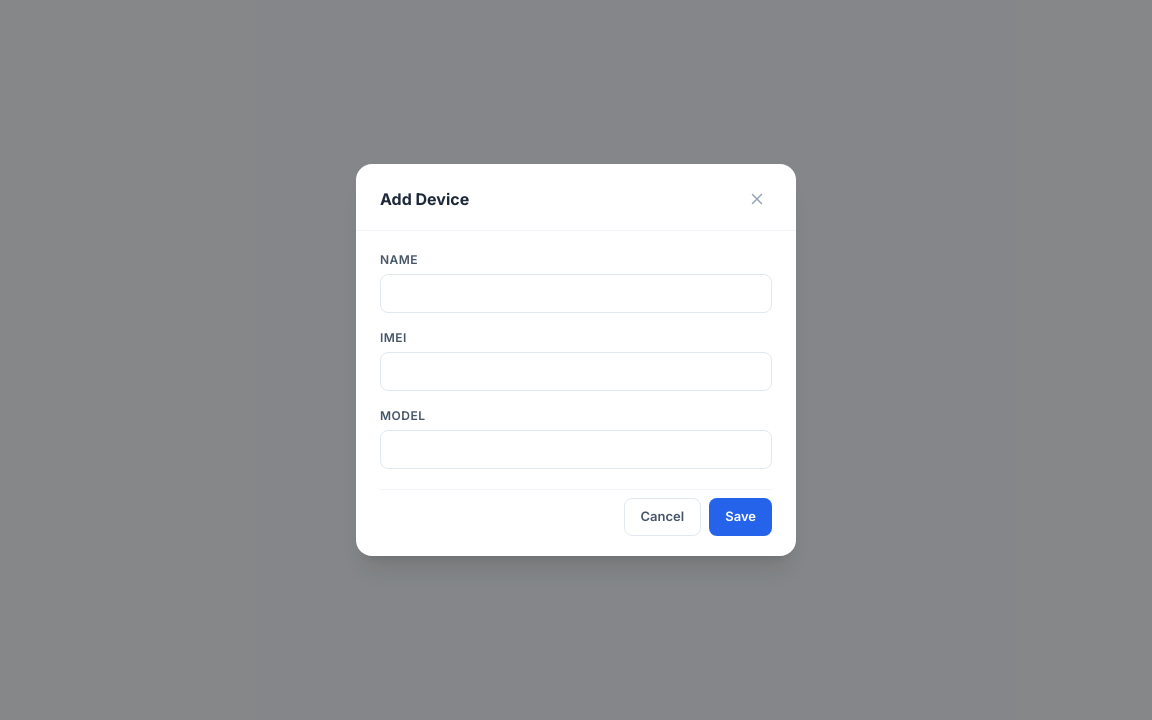
Test: DeviceFormModal — create mode › shows validation error when IMEI is too short
Type "Test" into the field labelled "Name" at (576, 294), box [380, 274, 772, 313]
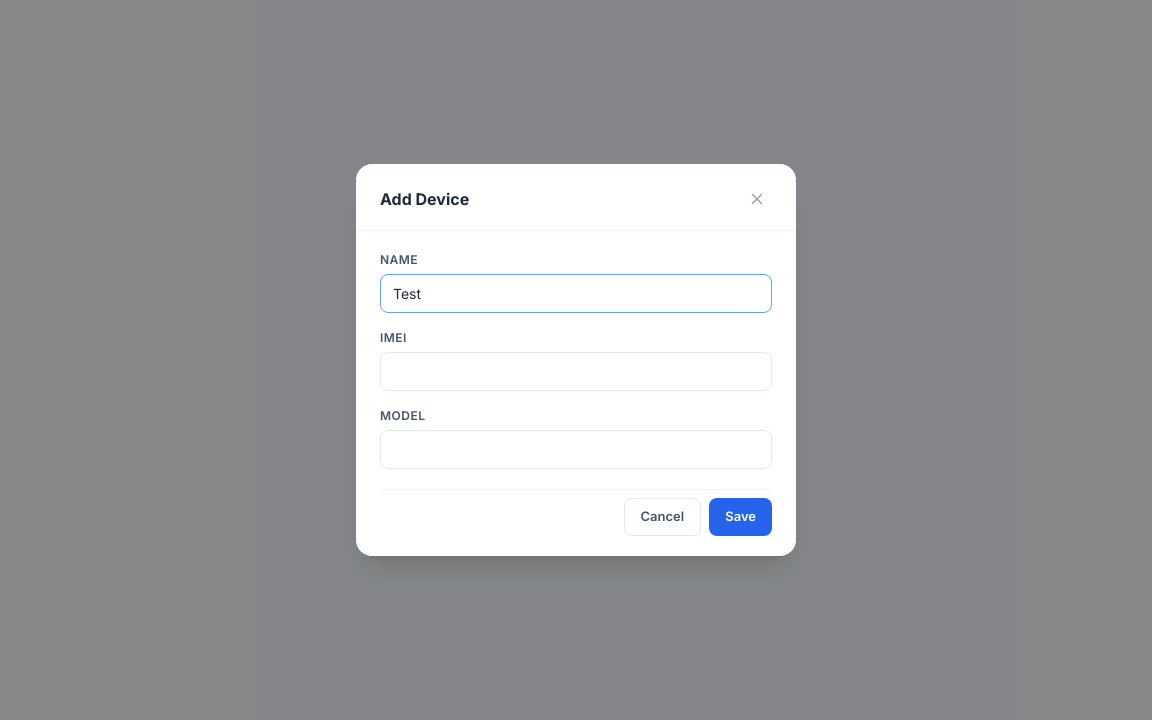
Type "1234" into the field labelled "IMEI" at (576, 372), box [380, 352, 772, 391]
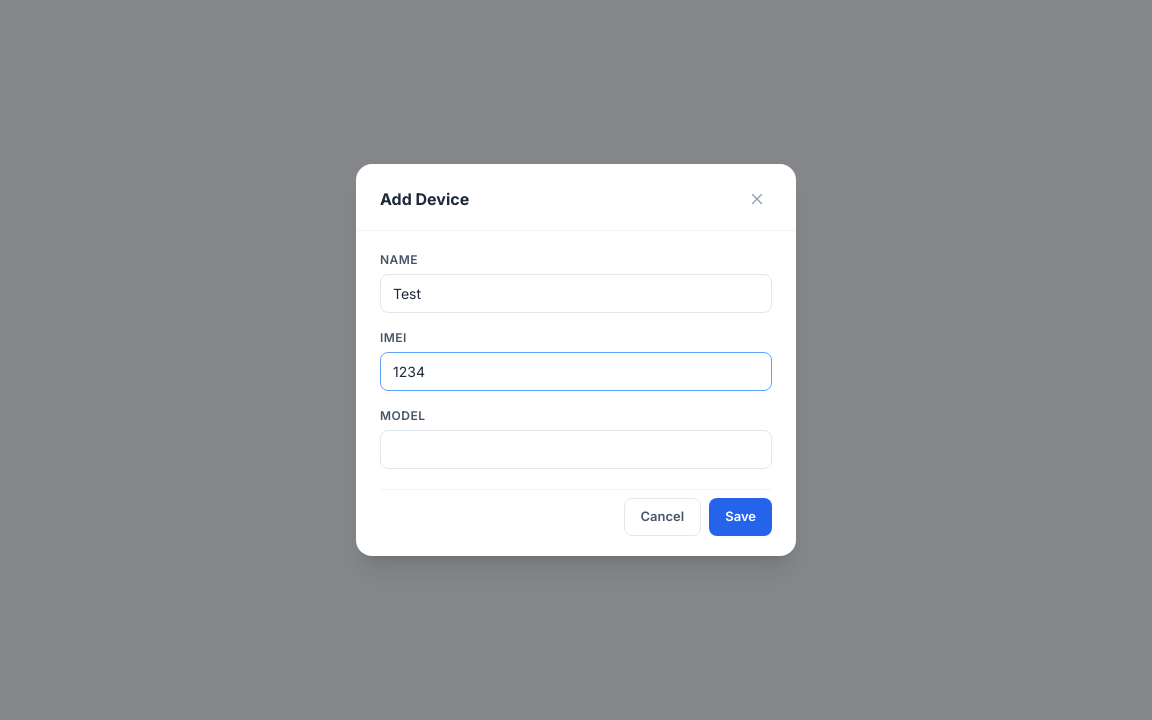
Click the button "Save" at (741, 517), box [709, 498, 772, 536]
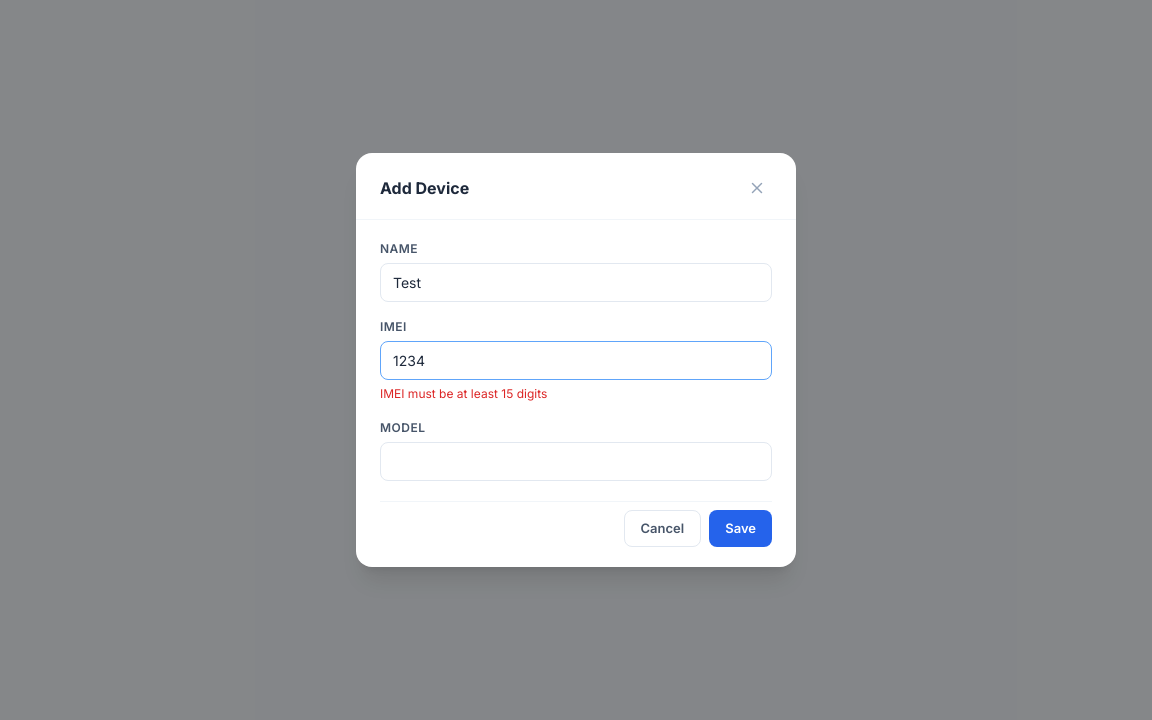
Result: the text "IMEI must be at least 15 digits" is shown at [380, 386, 547, 401]
